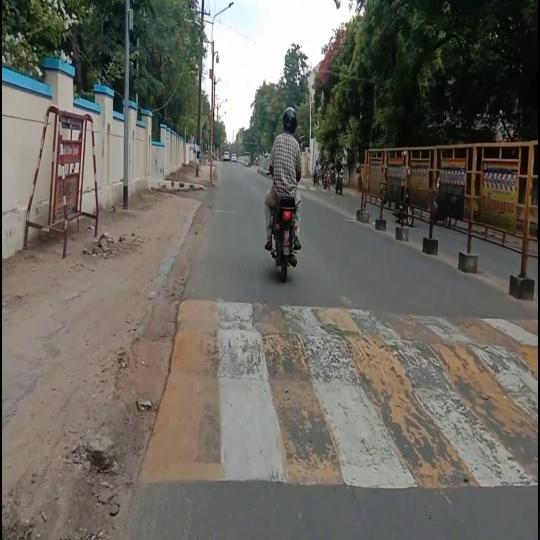Speed Bump: (136, 299, 538, 489)
